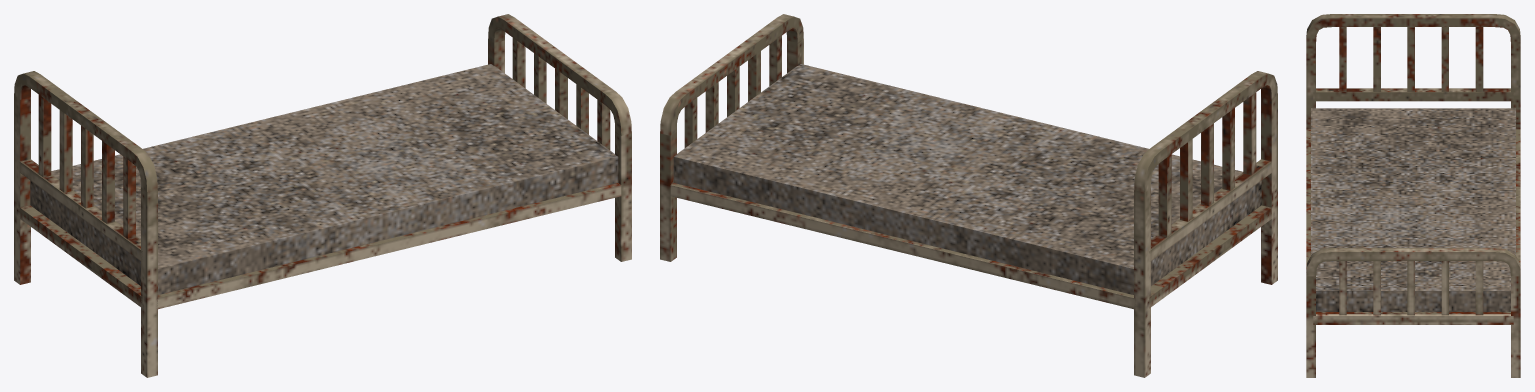
Rendered from bed_complete.fbx.
The picture shows the model from 3 angles, left to right: view 1: azimuth 30°, elevation 25°; view 2: azimuth 150°, elevation 25°; view 3: azimuth 270°, elevation 25°; orthographic projection. The views are drawn at different scales.
Visible parts, largest first — view 1: bed_complete; view 2: bed_complete; view 3: bed_complete.
Part boxes in pixels (x1,y1,x2,y2): bed_complete: [14, 14, 631, 377]; bed_complete: [660, 14, 1277, 377]; bed_complete: [1306, 14, 1520, 377].
Bounding box in the file's own units: 198 × 84.18 × 94.35.
1 material, 1 textured.
